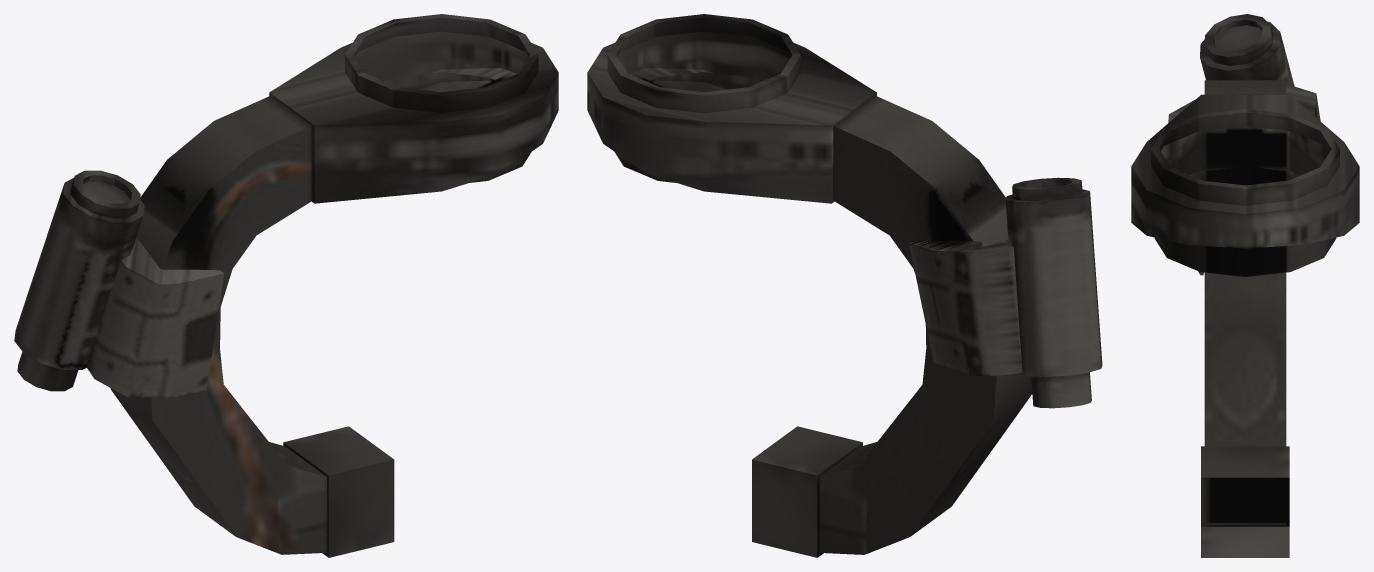
Rendered from suspension_steer_F_L.dae.
3 views of the same model, side by side, from view 1: azimuth 30°, elevation 25°; view 2: azimuth 150°, elevation 25°; view 3: azimuth 270°, elevation 25° (orthographic). The views are drawn at different scales.
Visible parts, largest first — view 1: suspension_steer_F_L; view 2: suspension_steer_F_L; view 3: suspension_steer_F_L.
Boxes of the visible parts, left/top/right/bottom form: suspension_steer_F_L: left=14, top=14, right=558, bottom=557; suspension_steer_F_L: left=587, top=14, right=1102, bottom=557; suspension_steer_F_L: left=1131, top=14, right=1359, bottom=557.
Size of the model in its own units: 0.5284 by 0.2102 by 0.45.
2 materials, 2 textured.
